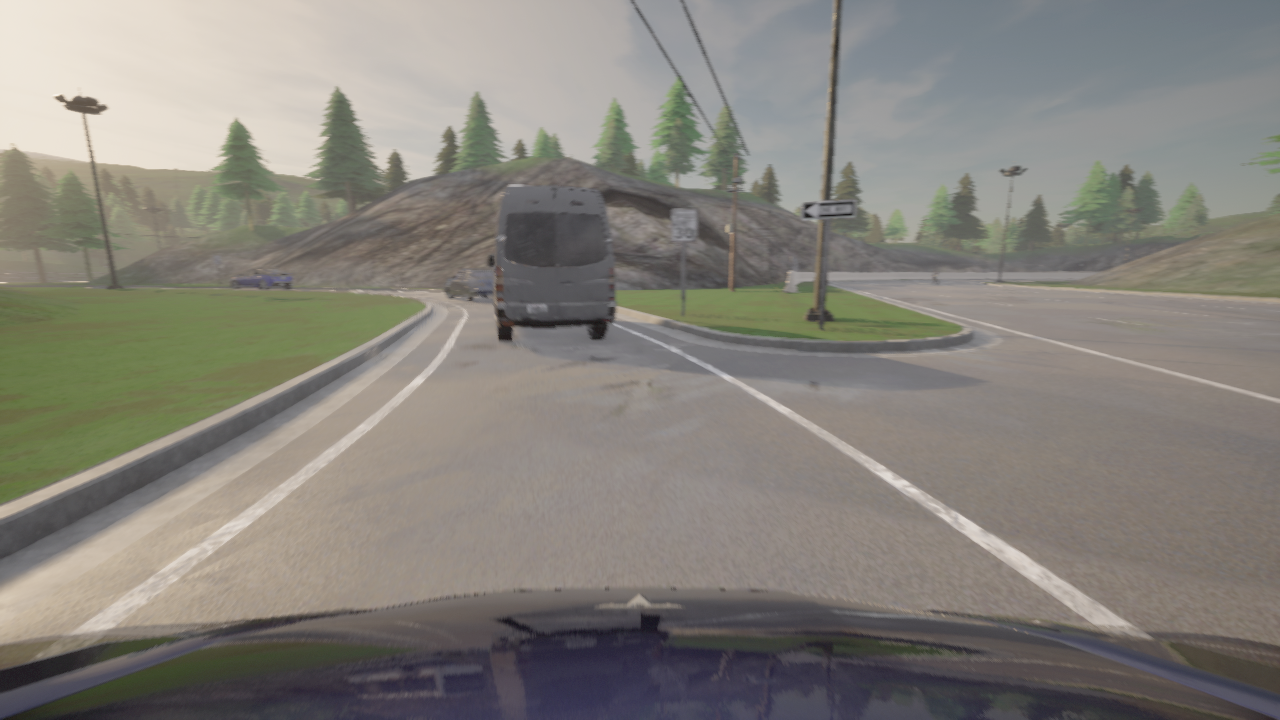cyclist: (0, 588, 1279, 719), (487, 186, 615, 342), (444, 269, 493, 301), (229, 269, 293, 290), (931, 275, 939, 285)
